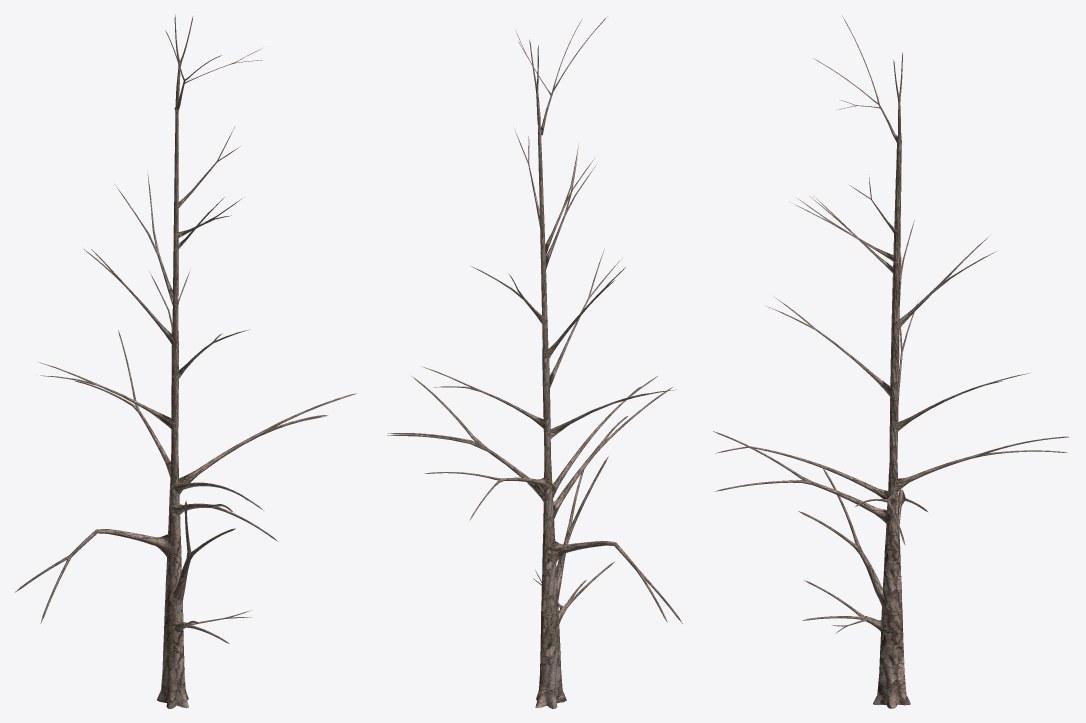
File: ActualBadTree.glb
The picture shows the model from 3 angles, left to right: view 1: azimuth 30°, elevation 25°; view 2: azimuth 150°, elevation 25°; view 3: azimuth 270°, elevation 25°; orthographic projection. The views are drawn at different scales.
Visible parts, largest first — view 1: bottom_trunk, top_trunk, polySurface7, polySurface13, polySurface1, polySurface6, polySurface8; view 2: bottom_trunk, top_trunk, polySurface7, polySurface13, polySurface18, polySurface2, polySurface19, polySurface1, polySurface6, polySurface3; view 3: bottom_trunk, top_trunk, polySurface18, polySurface13, polySurface1, polySurface19.
Part boxes in pixels (<box>): bottom_trunk: <box>157,382,188,708</box>; top_trunk: <box>171,105,178,383</box>; polySurface7: <box>14,529,174,623</box>; polySurface13: <box>169,500,235,606</box>; polySurface1: <box>74,330,170,477</box>; polySurface6: <box>179,393,356,491</box>; polySurface8: <box>36,362,175,429</box>; bottom_trunk: <box>535,394,566,708</box>; top_trunk: <box>538,124,549,395</box>; polySurface7: <box>547,541,682,623</box>; polySurface13: <box>556,456,608,601</box>; polySurface18: <box>553,387,672,518</box>; polySurface2: <box>388,376,544,501</box>; polySurface19: <box>552,376,657,497</box>; polySurface1: <box>424,472,550,521</box>; polySurface6: <box>387,383,544,499</box>; polySurface3: <box>422,366,547,429</box>; bottom_trunk: <box>873,398,910,708</box>; top_trunk: <box>890,132,901,399</box>; polySurface18: <box>713,431,890,524</box>; polySurface13: <box>798,468,887,607</box>; polySurface1: <box>894,436,1068,492</box>; polySurface19: <box>713,431,889,499</box>.
Size of the model in its own units: 3.13 by 6.88 by 3.34.
Materials: 1 (1 with a texture image).
